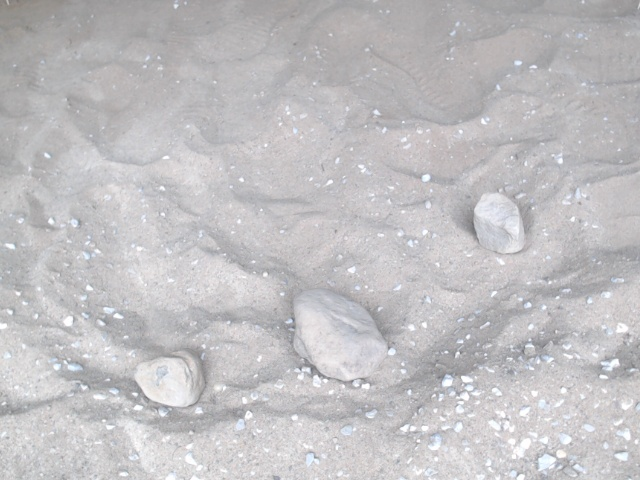rock: (288, 285, 391, 388), (131, 344, 210, 413), (470, 189, 529, 258)
